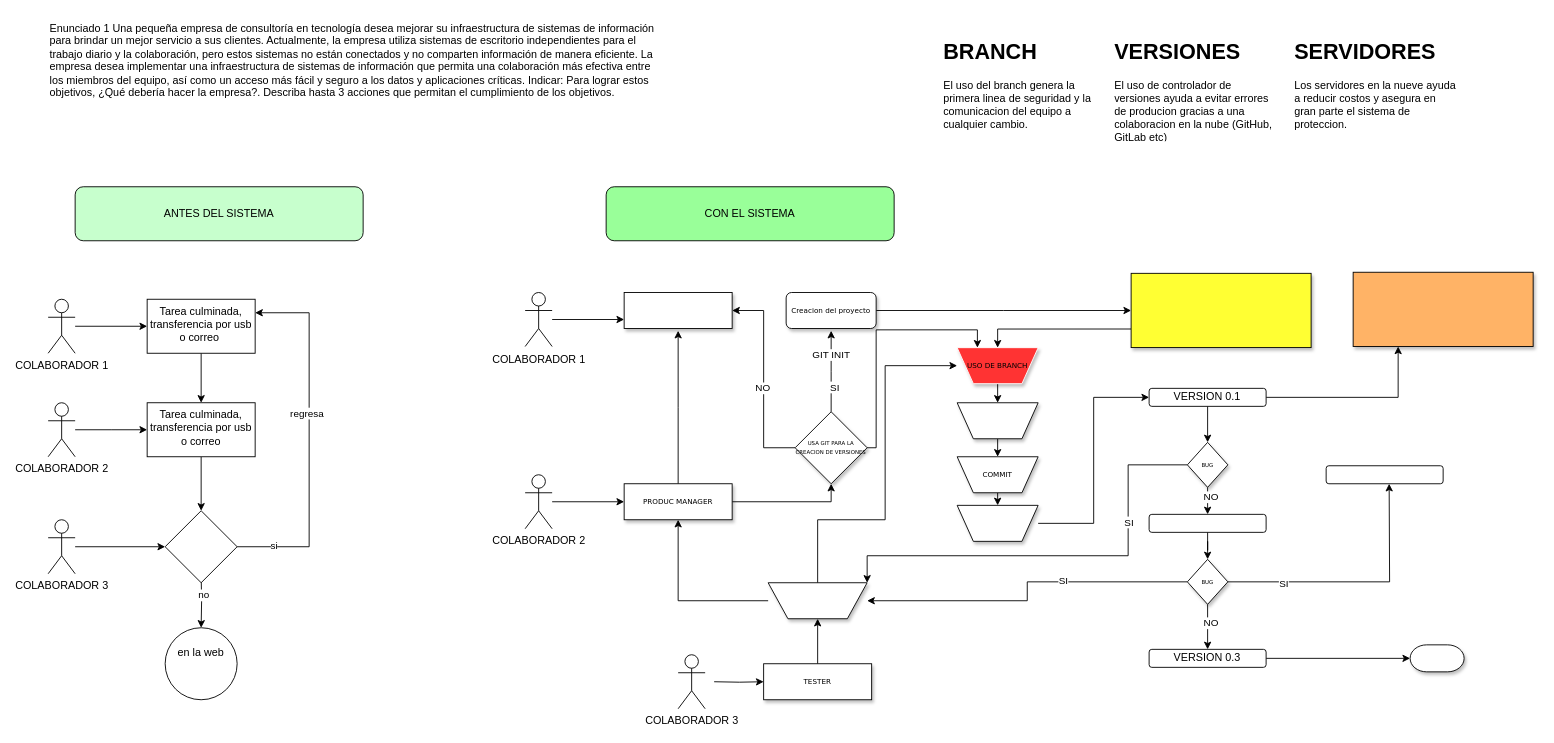
Some shapes in this 1554 by 743 pixel diagram are drawn without their labels. Here are the shapes that lost their labels. From the top down, the centre of each, then its label:
At [679,311]: "DEV".
At [1222,311]: "INICIA REPOCITORIO, CONTROLADOR DE VERSIONES".
At [1444,310]: "SERVIDORES EN LA NUVE".
At [998,421]: "ADD".
At [1384,474]: "VERSION 0.1.1".
At [998,524]: "PUSH".
At [1207,522]: "VERSION 0.2".
At [200,546]: "encontro errores".
At [818,601]: "SOLICITA CAMBIOS".
At [1438,659]: "End".
